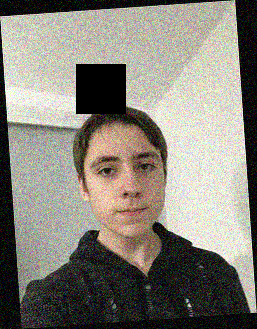without_mask: (86, 146, 166, 239)
